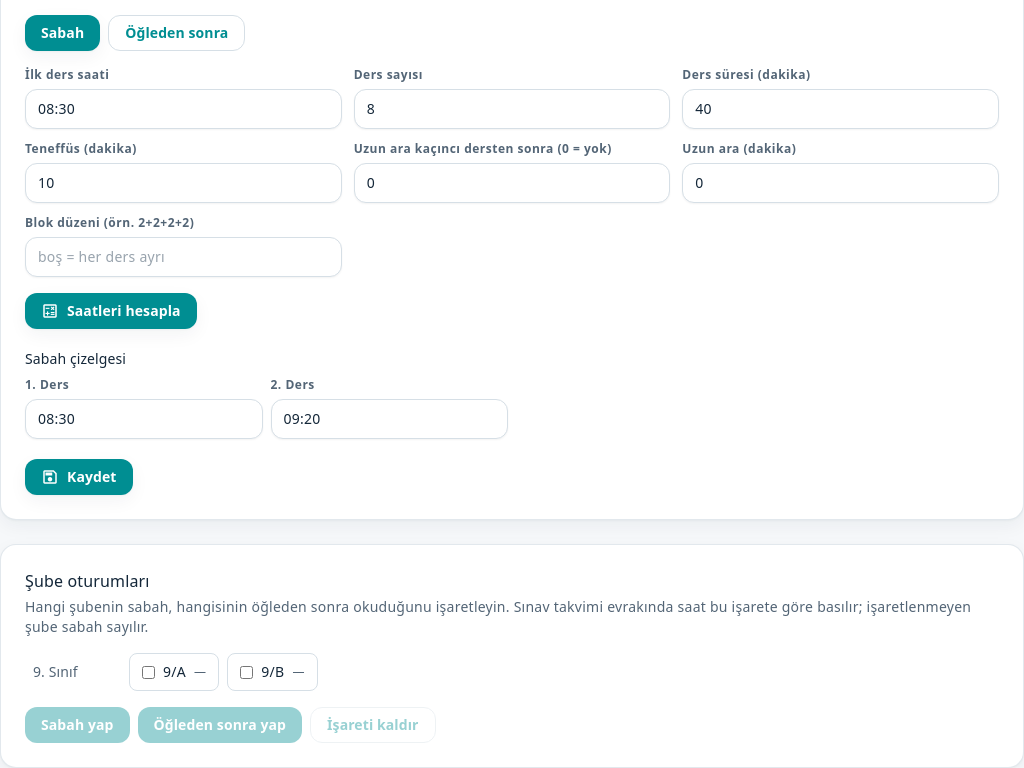
Test: DersSaatleriPaneli › düzey etiketine yeniden basmak seçimi kaldırır
(page scrolled)
Click the button "9. Sınıf". click: click(73, 672)
box: x1=25 y1=658 x2=121 y2=686
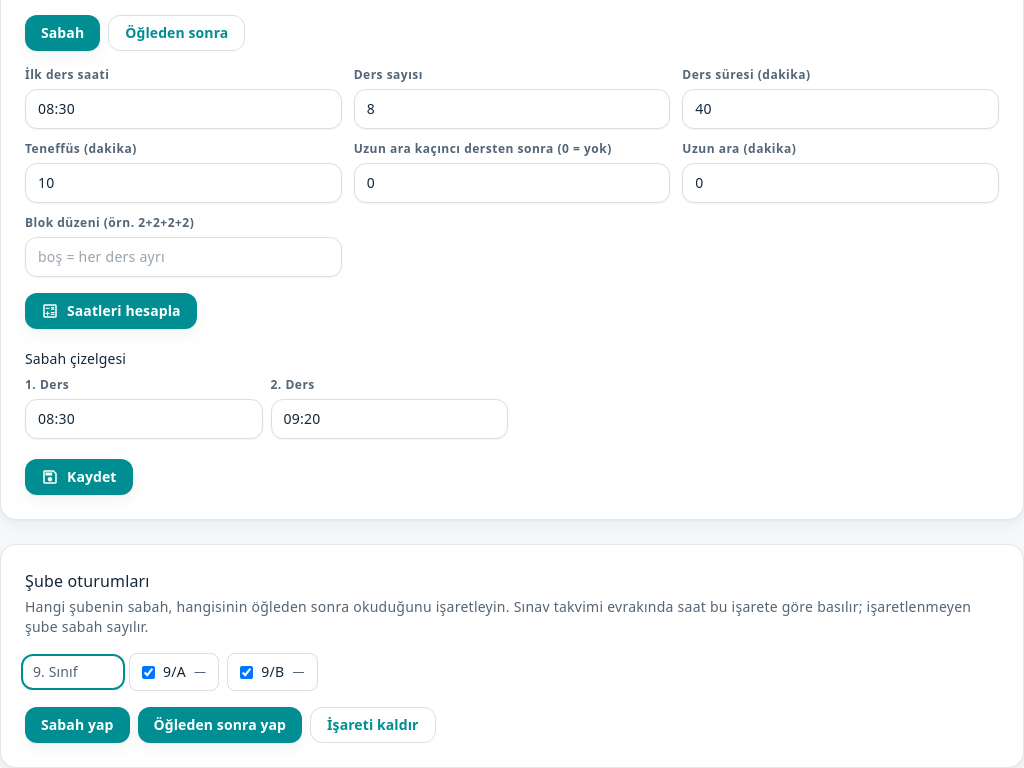
Click the button "9. Sınıf". click: click(73, 672)
box: x1=25 y1=658 x2=121 y2=686
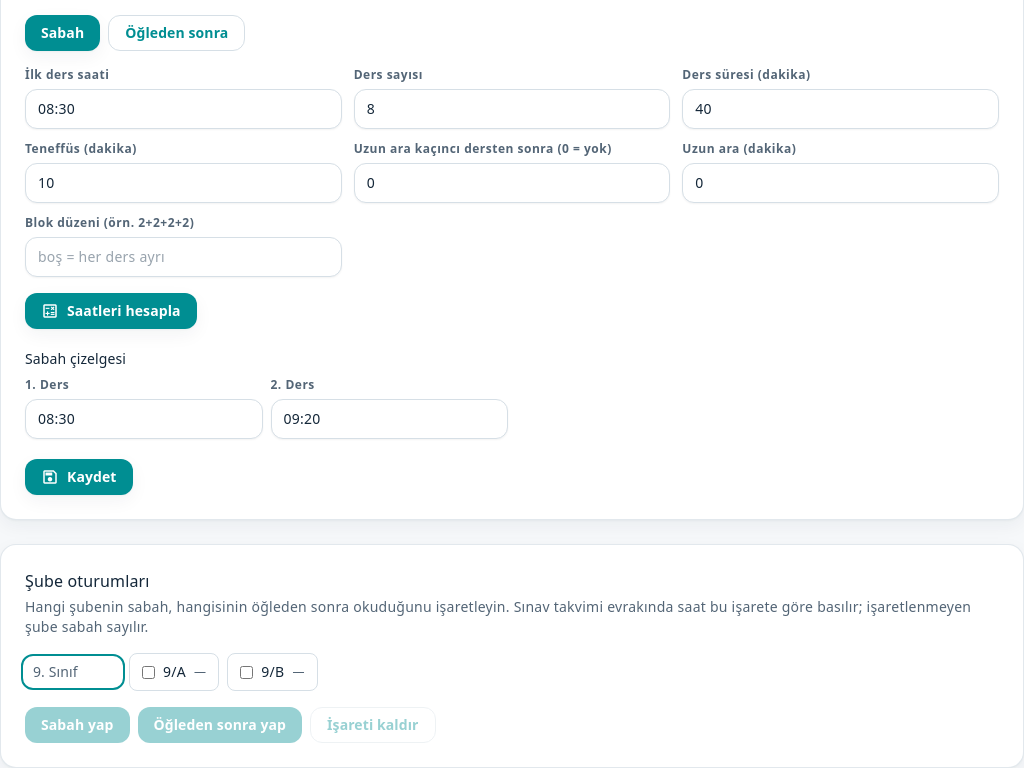
Expected: the button "Sabah yap" is disabled, x1=25 y1=707 x2=130 y2=743
